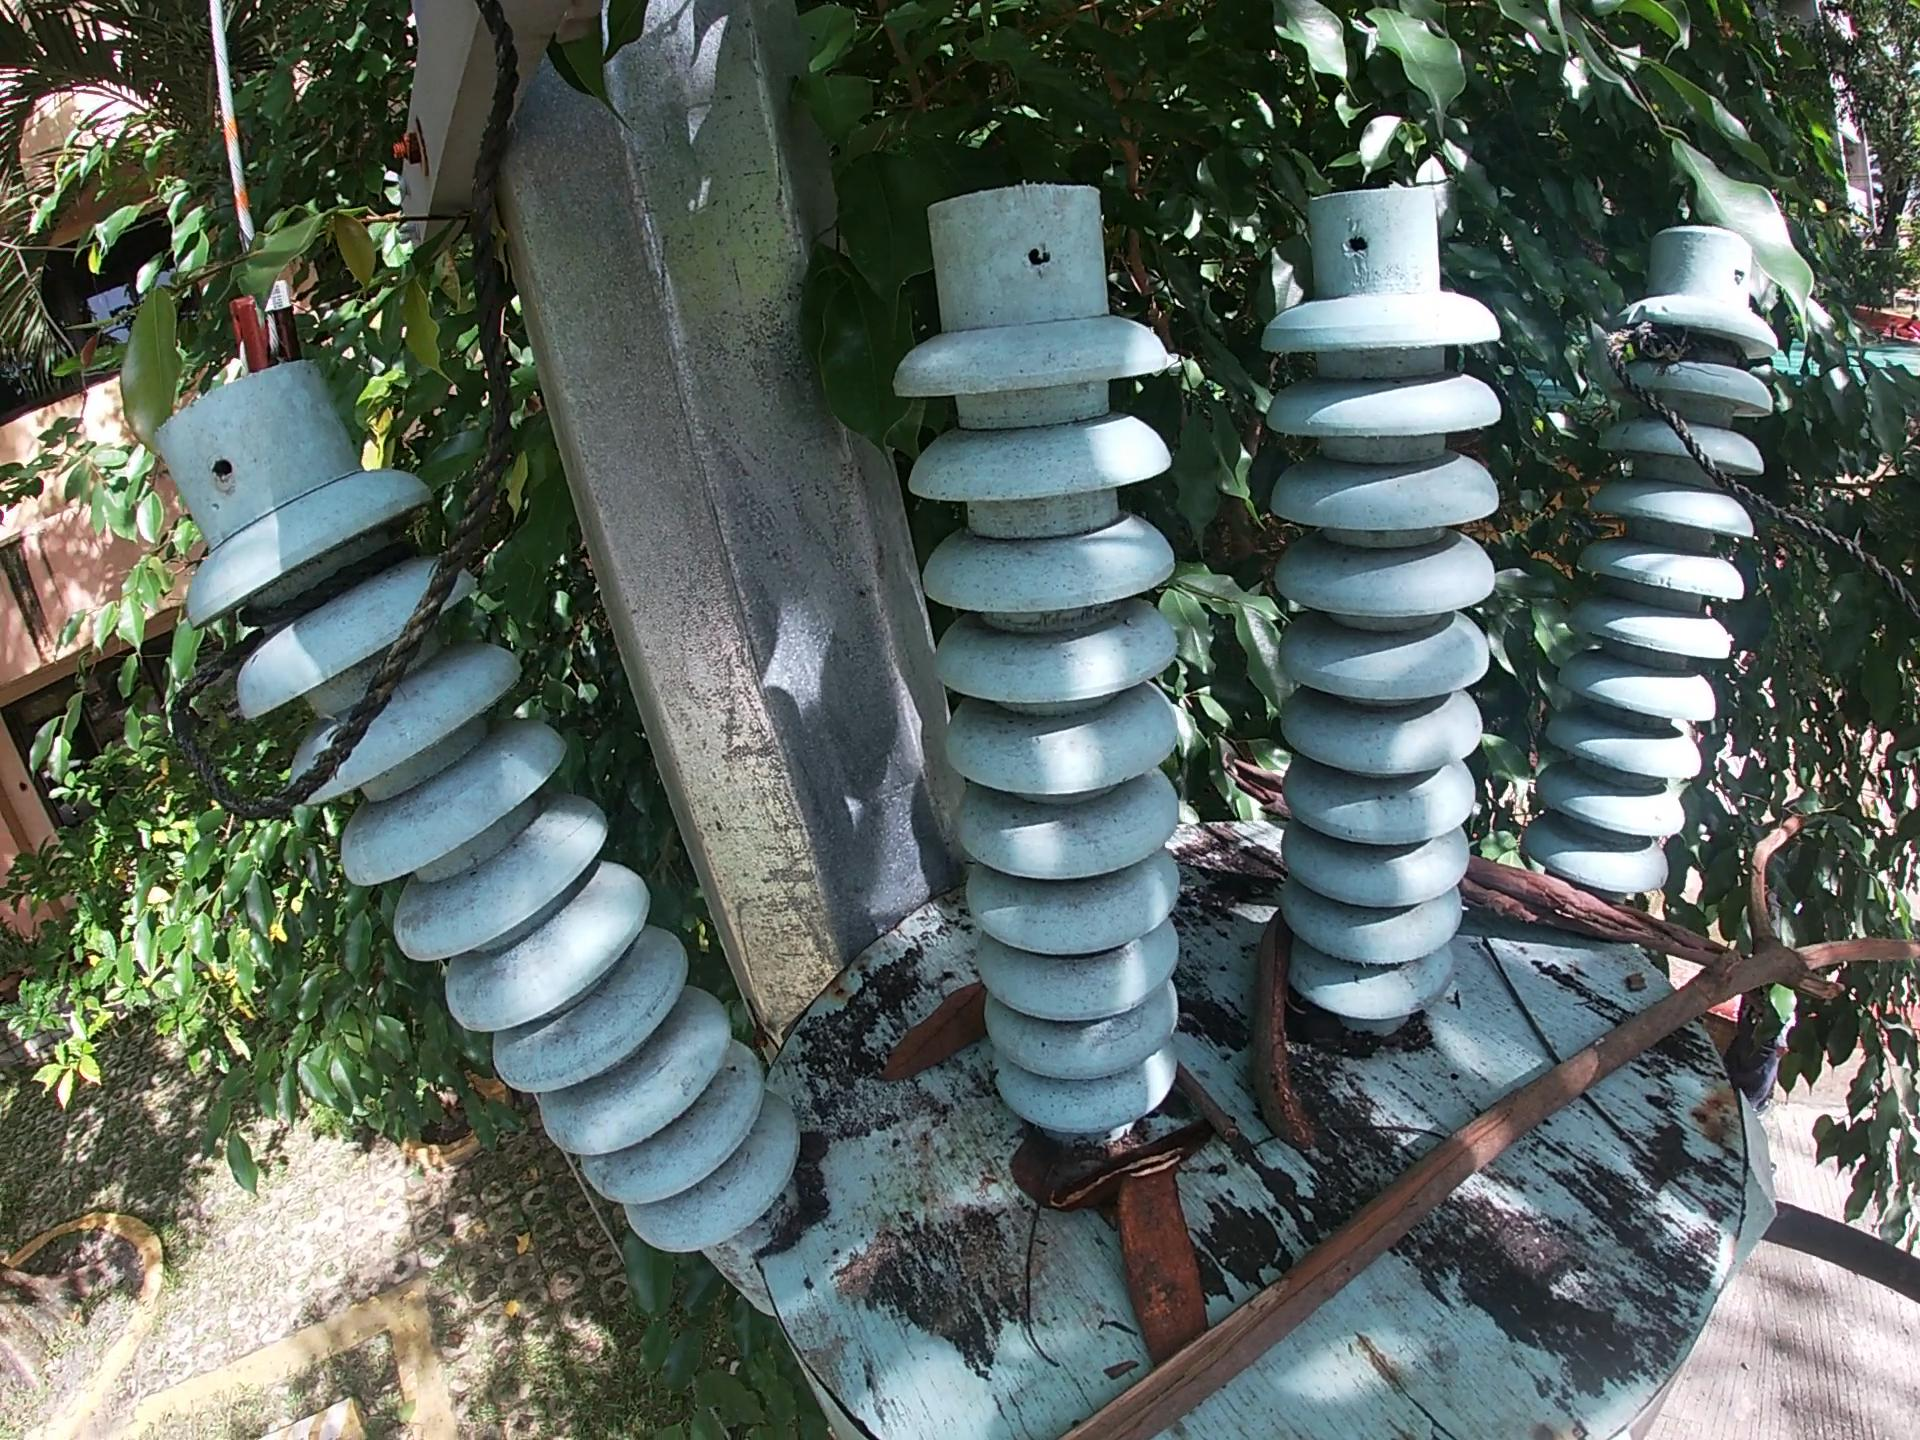leaf: (890, 989, 995, 1097), (1002, 1122, 1090, 1201)
mahogany fruit: (1256, 895, 1330, 1168), (1120, 1165, 1203, 1334)
tree branch: (1089, 821, 1909, 1440), (1492, 932, 1651, 1184), (1471, 864, 1730, 974), (1020, 1212, 1085, 1370), (1063, 1141, 1200, 1212), (1178, 1072, 1259, 1147), (1219, 743, 1284, 829)
